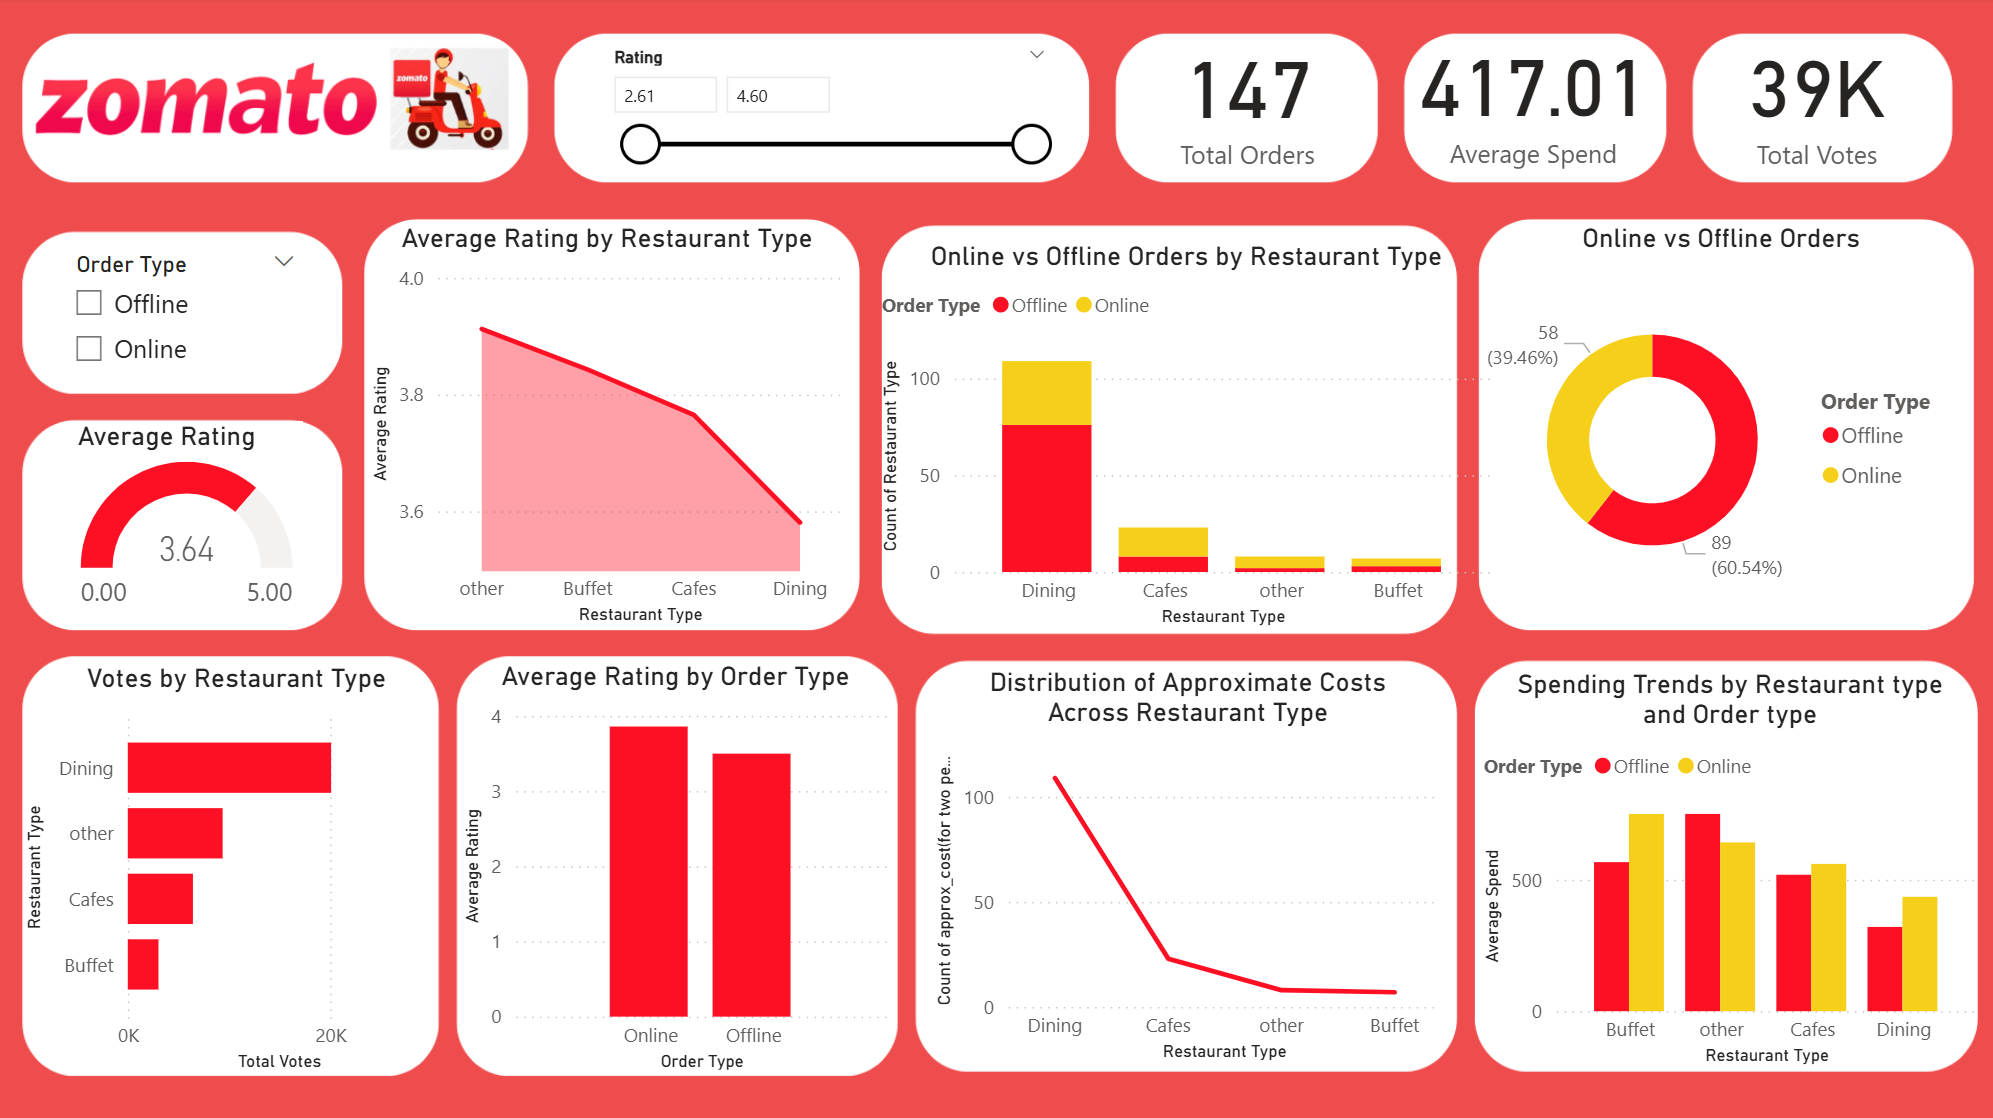

Layout of this report page (visuals, bound fields, positions):
{"tool":"powerbi","page":{"name":"Page 1","canvas":[1280,720],"ordinal":0},"visuals":[{"type":"clusteredBarChart","title":"Votes by Restaurant Type","fields":{"Y":["Zomato_data.Total Votes"],"Category":["Zomato_data.Restaurant Type"]},"box":[15.7,425.7,278.6,264.3],"z":0},{"type":"clusteredColumnChart","fields":{"Y":["Zomato_data.Average Rating"],"Category":["Zomato_data.online_order"]},"box":[294.3,424.3,280,265.7],"z":1000},{"type":"areaChart","fields":{"Category":["Zomato_data.Restaurant Type"],"Y":["Zomato_data.Average Rating"]},"box":[235.7,145.7,310,260],"z":2000},{"type":"donutChart","title":"Online vs Offline Orders","fields":{"Category":["Zomato_data.online_order"],"Y":["CountNonNull(Zomato_data.Restaurant Type)"]},"box":[944.3,145.7,312.9,255.7],"z":3000},{"type":"columnChart","title":"Online vs Offline Orders by Restaurant Type","fields":{"Category":["Zomato_data.Restaurant Type"],"Series":["Zomato_data.online_order"],"Y":["CountNonNull(Zomato_data.Restaurant Type)"]},"box":[562.2,156.8,399,249.9],"z":4000},{"type":"clusteredColumnChart","title":"Spending Trends by Restaurant type and Order type","fields":{"Category":["Zomato_data.Restaurant Type"],"Y":["Zomato_data.Average Spend"],"Series":["Zomato_data.Order Type"]},"box":[944.3,430,324.3,257.1],"z":5000},{"type":"slicer","fields":{"Values":["Zomato_data.Order Type"]},"box":[40,158.6,164.3,85.7],"z":6000},{"type":"slicer","fields":{"Values":["Zomato_data.rate"]},"box":[382.9,28.6,300,87.1],"z":7000},{"type":"card","fields":{"Values":["Zomato_data.Total Orders"]},"box":[682.9,11.4,231.4,107.1],"z":8000},{"type":"card","fields":{"Values":["Zomato_data.Total Votes"]},"box":[1078.6,14.3,167.1,101.4],"z":9000},{"type":"card","fields":{"Values":["Zomato_data.Average Spend"]},"box":[895.7,12.9,170,102.9],"z":10000},{"type":"gauge","fields":{"Y":["Zomato_data.Average Rating"]},"box":[48.6,271.4,148.6,130],"z":11000},{"type":"lineChart","title":"Distribution of Approximate Costs Across Restaurant Type","fields":{"Category":["Zomato_data.Restaurant Type"],"Y":["CountNonNull(Zomato_data.approx_cost(for two people))"]},"box":[595.7,428.6,331.4,255.7],"z":12000}]}

Visuals, with their boxes in screenshot pixels (x1, y1, x2, y2), scaled from the page's 1280x720 canvas onto the 1993x1118 screenshot:
"Votes by Restaurant Type" clusteredBarChart: <bbox>24, 661, 458, 1071</bbox>
clusteredColumnChart - Zomato_data.Average Rating x Zomato_data.online_order: <bbox>458, 659, 894, 1071</bbox>
areaChart - Zomato_data.Restaurant Type x Zomato_data.Average Rating: <bbox>367, 226, 850, 630</bbox>
"Online vs Offline Orders" donutChart: <bbox>1470, 226, 1957, 623</bbox>
"Online vs Offline Orders by Restaurant Type" columnChart: <bbox>875, 243, 1497, 632</bbox>
"Spending Trends by Restaurant type and Order type" clusteredColumnChart: <bbox>1470, 668, 1975, 1067</bbox>
slicer - Zomato_data.Order Type: <bbox>62, 246, 318, 379</bbox>
slicer - Zomato_data.rate: <bbox>596, 44, 1063, 180</bbox>
card - Zomato_data.Total Orders: <bbox>1063, 18, 1424, 184</bbox>
card - Zomato_data.Total Votes: <bbox>1679, 22, 1940, 180</bbox>
card - Zomato_data.Average Spend: <bbox>1395, 20, 1659, 180</bbox>
gauge - Zomato_data.Average Rating: <bbox>76, 421, 307, 623</bbox>
"Distribution of Approximate Costs Across Restaurant Type" lineChart: <bbox>928, 666, 1444, 1063</bbox>
